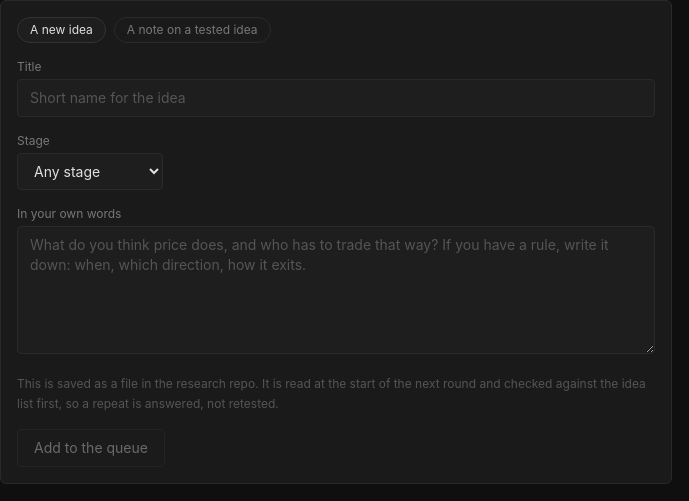
IdeaForm › shows the server's error
The width and height of the screenshot is (689, 501).
Type "Valid title" into the field labelled "Title" at (336, 98), box [17,79,655,117]
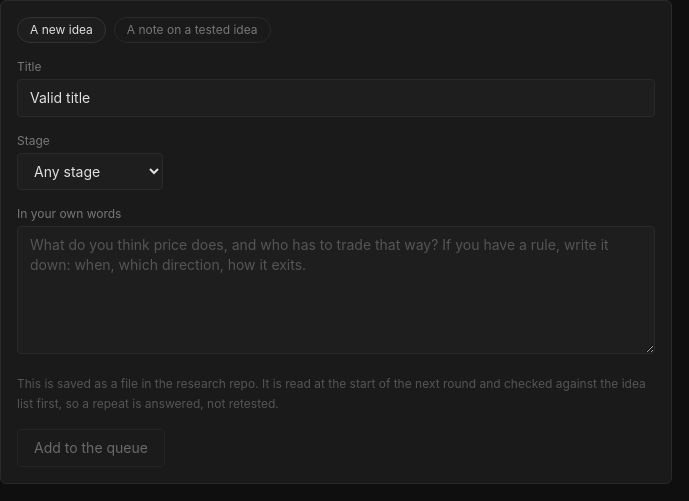
Replace the text in the text box labelled "In your own words" with "Long enough body here." at (336, 290), box [17,226,655,354]
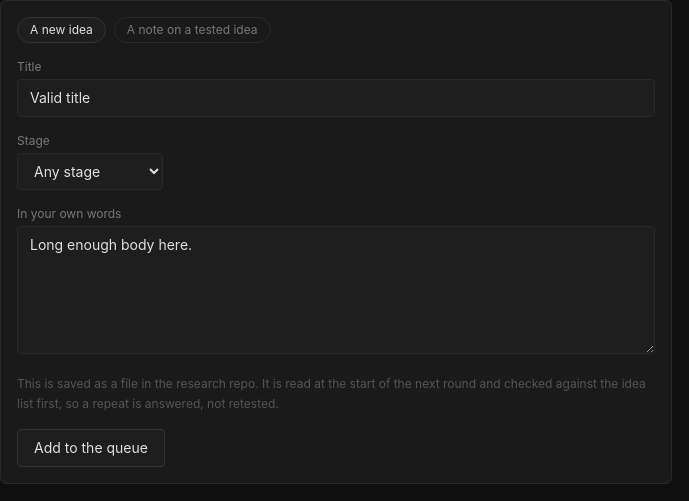
Click the button "Add to the queue" at (91, 448), box [17,429,165,467]
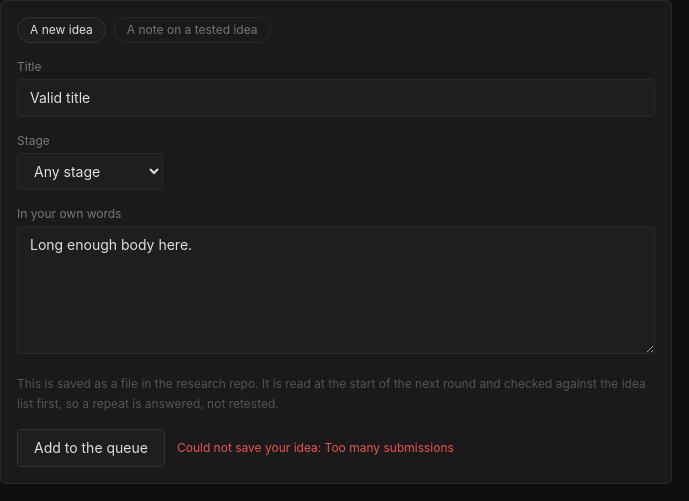
Now the message shows "Too many submissions", box [177,440,454,455]
